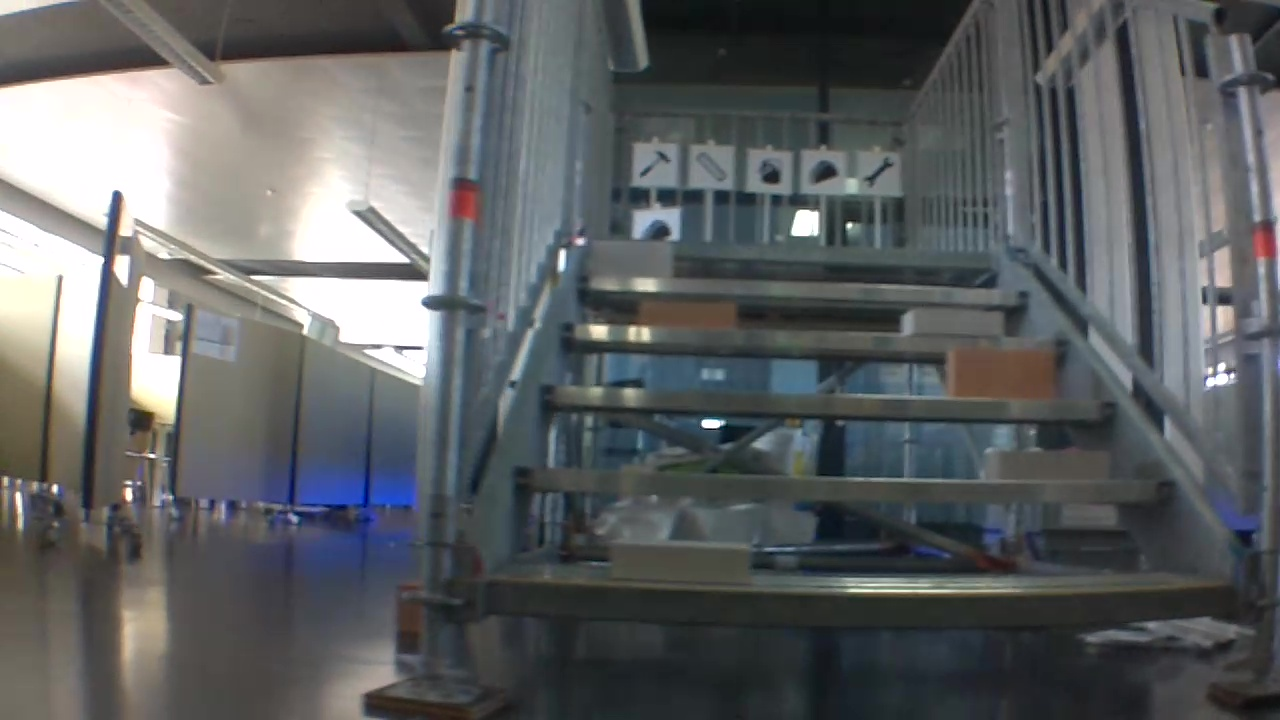brick: (603, 533, 761, 584), (990, 443, 1117, 484), (943, 350, 1057, 393), (583, 241, 673, 278), (900, 309, 999, 337), (634, 304, 735, 328)
bucket: (754, 158, 784, 184)
edge: (528, 465, 1176, 507), (494, 584, 1252, 618), (546, 377, 1115, 420), (560, 322, 1075, 361), (570, 279, 1032, 300), (587, 245, 997, 258)
hammer: (639, 149, 674, 179)
ruler: (693, 151, 727, 183)
stairs: (417, 0, 1280, 719)
steps: (454, 245, 1250, 609)
taco: (632, 216, 674, 240), (806, 160, 839, 186)
wrench: (862, 156, 894, 188)
